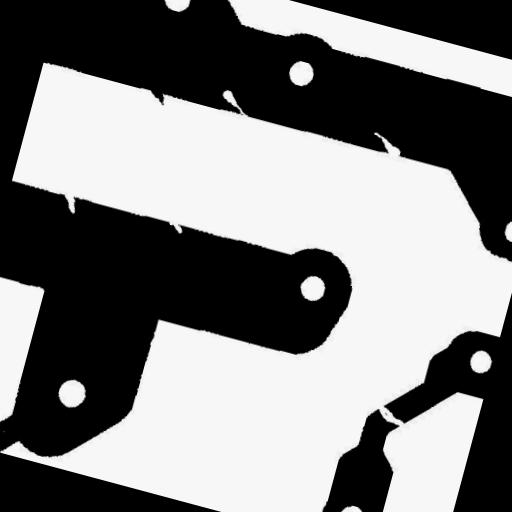mousebite: (208, 80, 262, 126), (360, 122, 412, 166), (50, 183, 88, 223), (156, 208, 194, 242)
open: (364, 394, 418, 436)
spur: (136, 73, 177, 114)
